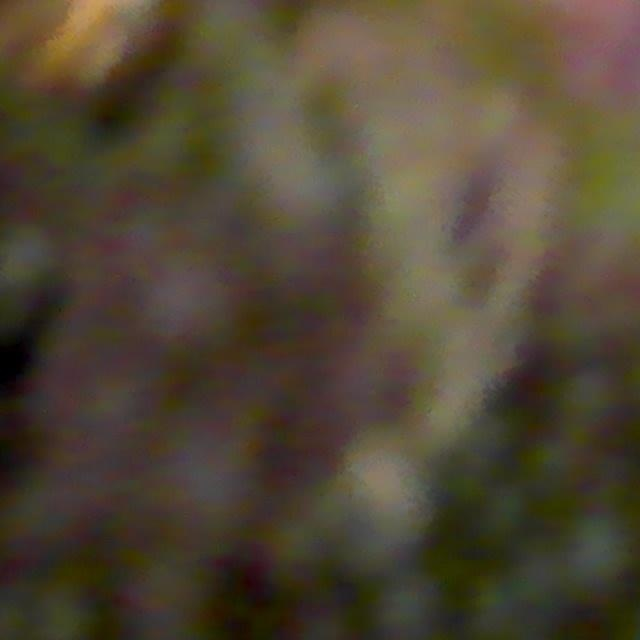SeaGrape: (557, 510, 639, 593), (0, 219, 63, 296), (559, 364, 623, 426)
